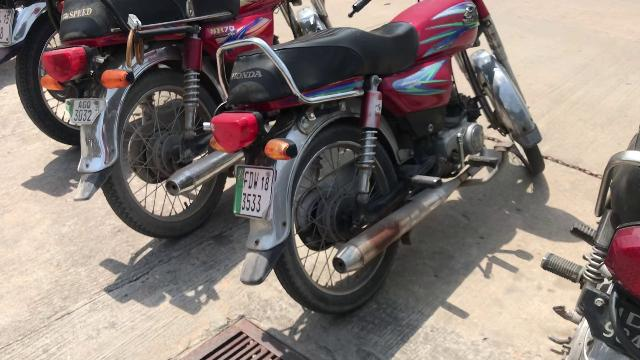plate: (232, 162, 280, 222)
